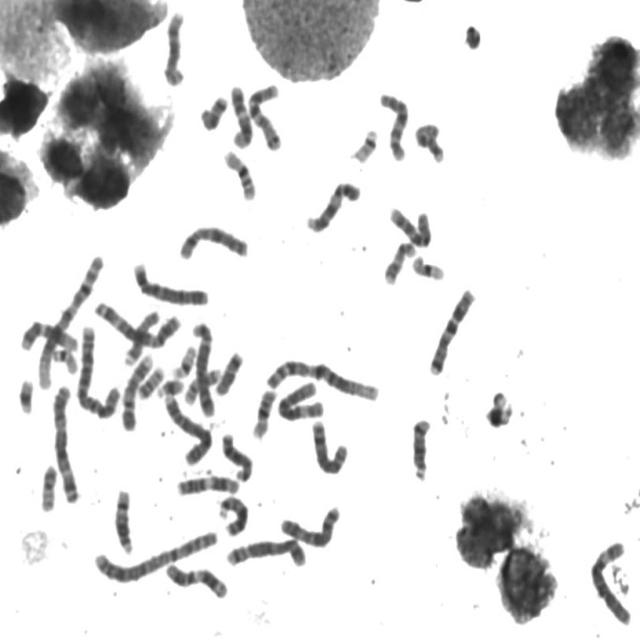A1: (34, 251, 106, 391), (263, 354, 381, 404)
A2: (90, 525, 220, 585), (73, 320, 122, 419)
A3: (91, 297, 182, 349), (49, 380, 82, 505)
B4: (130, 258, 210, 308), (161, 391, 214, 466)
B5: (222, 533, 308, 570), (189, 318, 218, 418)
C10: (376, 87, 411, 163), (386, 202, 434, 248)
C11: (162, 558, 230, 601), (172, 472, 242, 498)
C12: (18, 316, 79, 354), (227, 81, 254, 149)
C6: (586, 536, 634, 626), (274, 376, 326, 422)
C7: (426, 283, 478, 378), (244, 78, 284, 152)
C8: (308, 416, 350, 476), (160, 5, 187, 88)
C9: (303, 178, 362, 235), (118, 349, 156, 433)
D13: (218, 429, 255, 483), (215, 492, 250, 538)
D14: (110, 484, 136, 555), (408, 412, 433, 483)
D15: (121, 306, 162, 367), (414, 120, 448, 164)
E16: (220, 146, 258, 202), (248, 384, 278, 440)
E17: (181, 365, 224, 409), (381, 238, 418, 286)
E18: (212, 347, 244, 397), (196, 91, 229, 132)
F19: (168, 341, 198, 380), (409, 252, 446, 282)
F20: (134, 361, 166, 400), (37, 459, 59, 514)
G21: (14, 374, 35, 416), (153, 374, 185, 399)
G22: (348, 124, 380, 165), (49, 346, 80, 375)
X: (277, 502, 343, 550), (175, 221, 250, 262)
